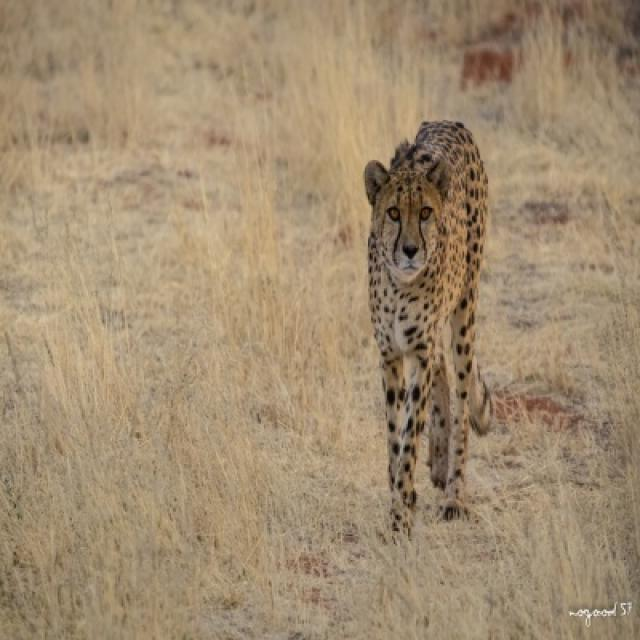Cheetah: (361, 118, 497, 544)
